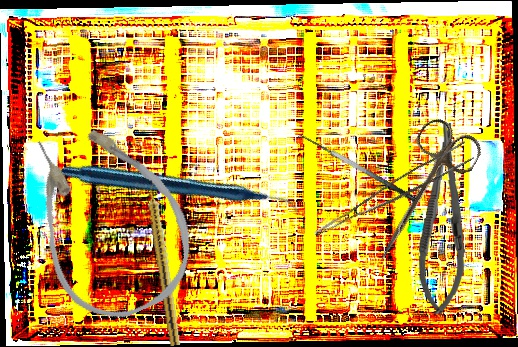Cannula: (2, 99, 214, 337)
Handpiece: (57, 70, 301, 313), (144, 179, 184, 347)
Iris Scissors: (356, 113, 487, 277)
Needle Holder: (415, 121, 473, 316)
Spatula Surgical: (293, 128, 418, 212)
Tissue Forceps: (313, 136, 476, 254)
